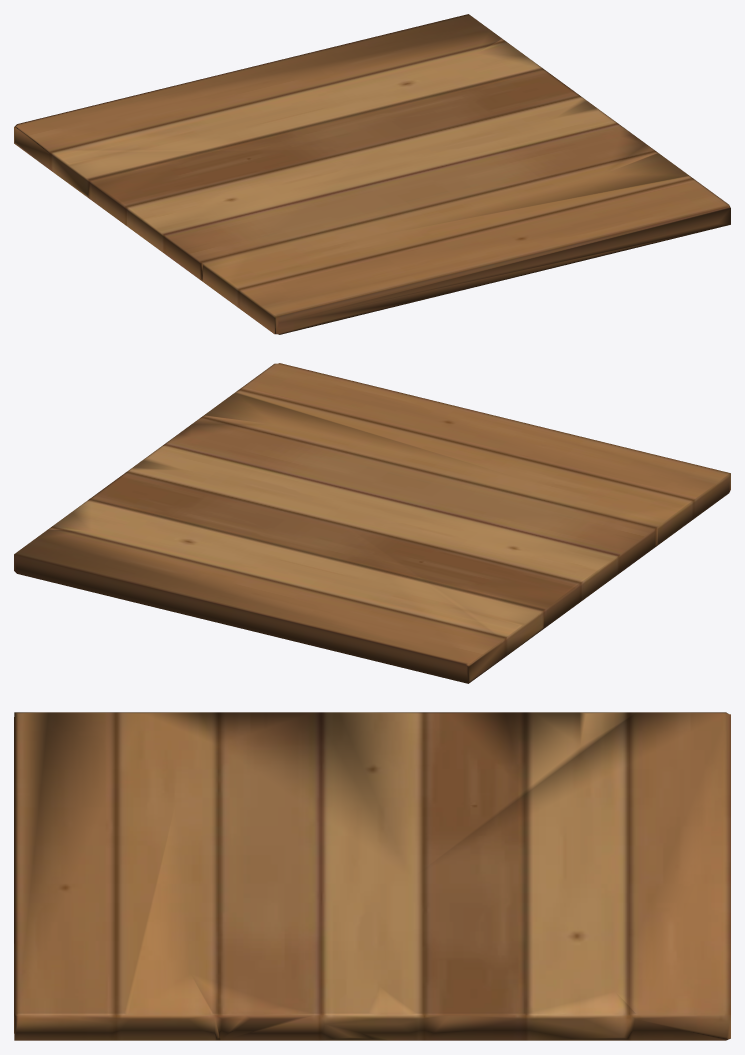
The model's file is wood-floor.glb.
3 views of the same model, one above another, from view 1: azimuth 30°, elevation 25°; view 2: azimuth 150°, elevation 25°; view 3: azimuth 270°, elevation 25° (orthographic). The views are drawn at different scales.
Visible parts, largest first — view 1: planks; view 2: planks; view 3: planks.
Boxes of the visible parts, box(x1,y1,x2,y2) form: planks: box(14, 14, 730, 334); planks: box(14, 363, 730, 683); planks: box(14, 712, 730, 1040).
Bounding box in the file's own units: 2 × 0.0801 × 2.
Materials: 1 (1 with a texture image).
